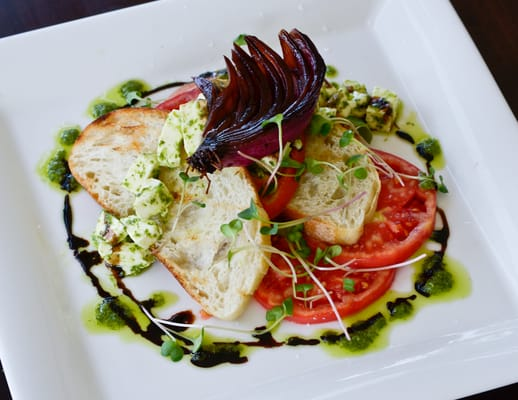sandwich: (30, 22, 465, 361)
